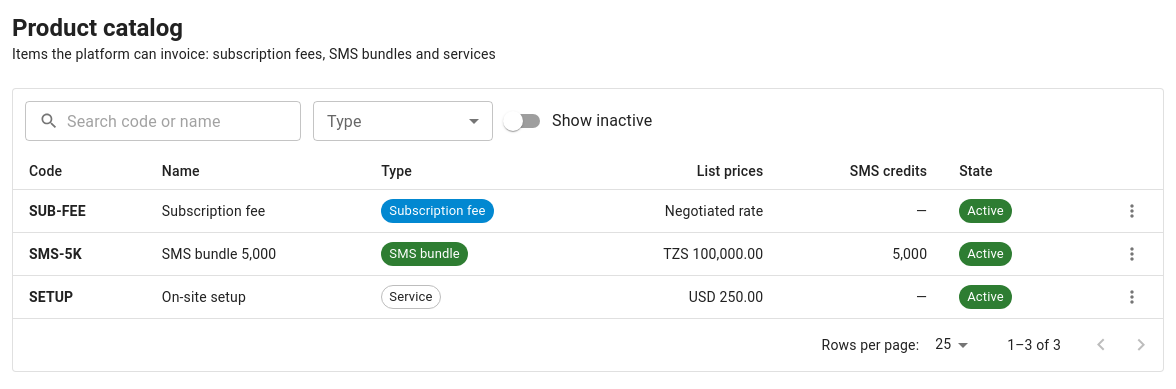
CatalogPage › lists products with type and list prices; read-only users get View only
Check: the text "SMS-5K" is shown, box [29,246,82,262]
Check: the text "SMS bundle" is shown, box [389,246,460,261]
Click the button named "Actions for SMS-5K · SMS bundle 5,000" at (1132, 254), box [1117,239,1147,269]
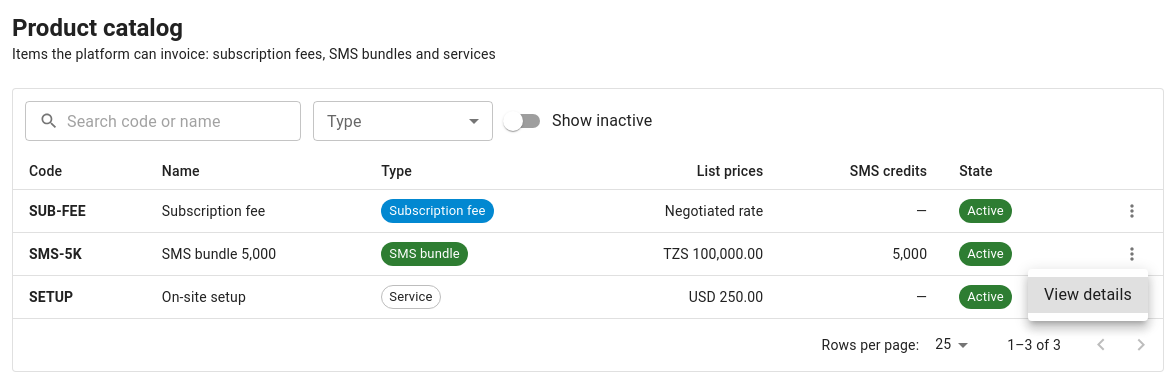
Check: the menu item "View details" is shown, box [1028,277,1148,313]
